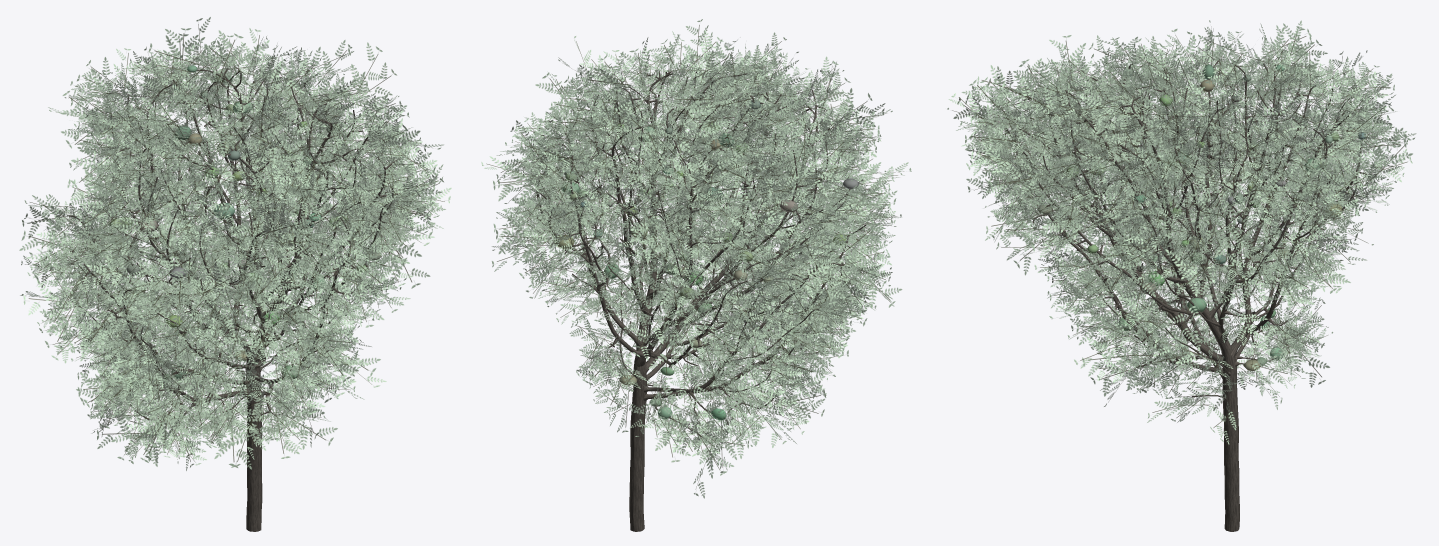
The model's file is tree_22_broadleaf.glb.
3 views of the same model, side by side, from view 1: azimuth 30°, elevation 25°; view 2: azimuth 150°, elevation 25°; view 3: azimuth 270°, elevation 25° (orthographic). The views are drawn at different scales.
Parts seen in each view (by area): view 1: tree_22_broadleaf.leaves, tree_22_broadleaf.trunk_branches, tree_22_broadleaf.foliage_volume; view 2: tree_22_broadleaf.leaves, tree_22_broadleaf.trunk_branches, tree_22_broadleaf.foliage_volume; view 3: tree_22_broadleaf.leaves, tree_22_broadleaf.trunk_branches, tree_22_broadleaf.foliage_volume.
Part boxes in pixels (left/top/right/bottom): tree_22_broadleaf.leaves: left=19, top=17, right=451, bottom=470; tree_22_broadleaf.trunk_branches: left=69, top=68, right=400, bottom=531; tree_22_broadleaf.foliage_volume: left=87, top=65, right=381, bottom=387; tree_22_broadleaf.leaves: left=481, top=19, right=911, bottom=498; tree_22_broadleaf.trunk_branches: left=535, top=68, right=866, bottom=531; tree_22_broadleaf.foliage_volume: left=545, top=100, right=858, bottom=420; tree_22_broadleaf.leaves: left=947, top=20, right=1416, bottom=444; tree_22_broadleaf.trunk_branches: left=1004, top=59, right=1367, bottom=531; tree_22_broadleaf.foliage_volume: left=1037, top=64, right=1365, bottom=371.
Bounding box in the file's own units: 11.67 × 13.92 × 12.46.
3 materials, 2 textured.
